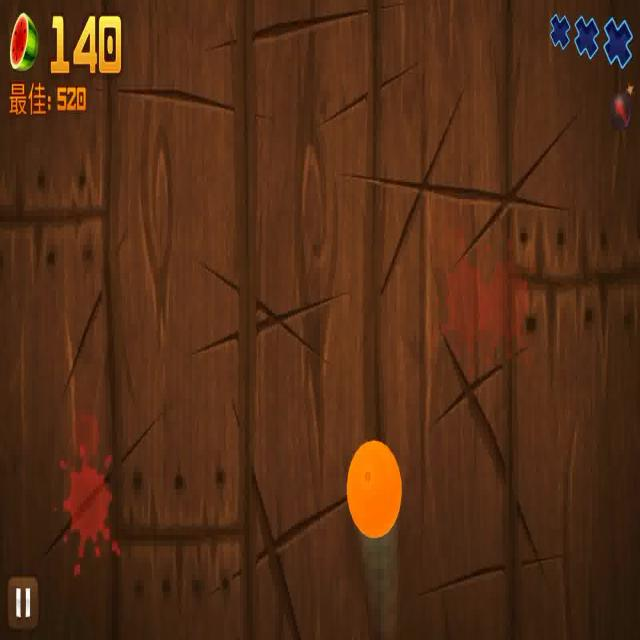fruit: (348, 438, 403, 536)
